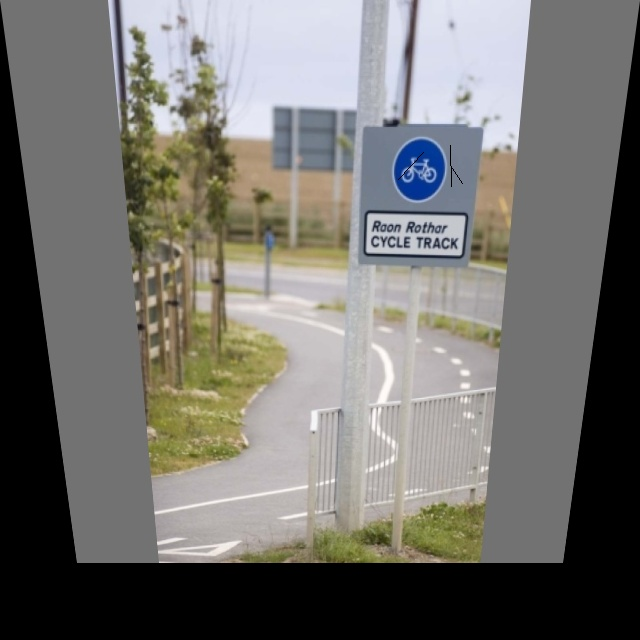Compulsory_Cycle_Track: (385, 133, 453, 208)
